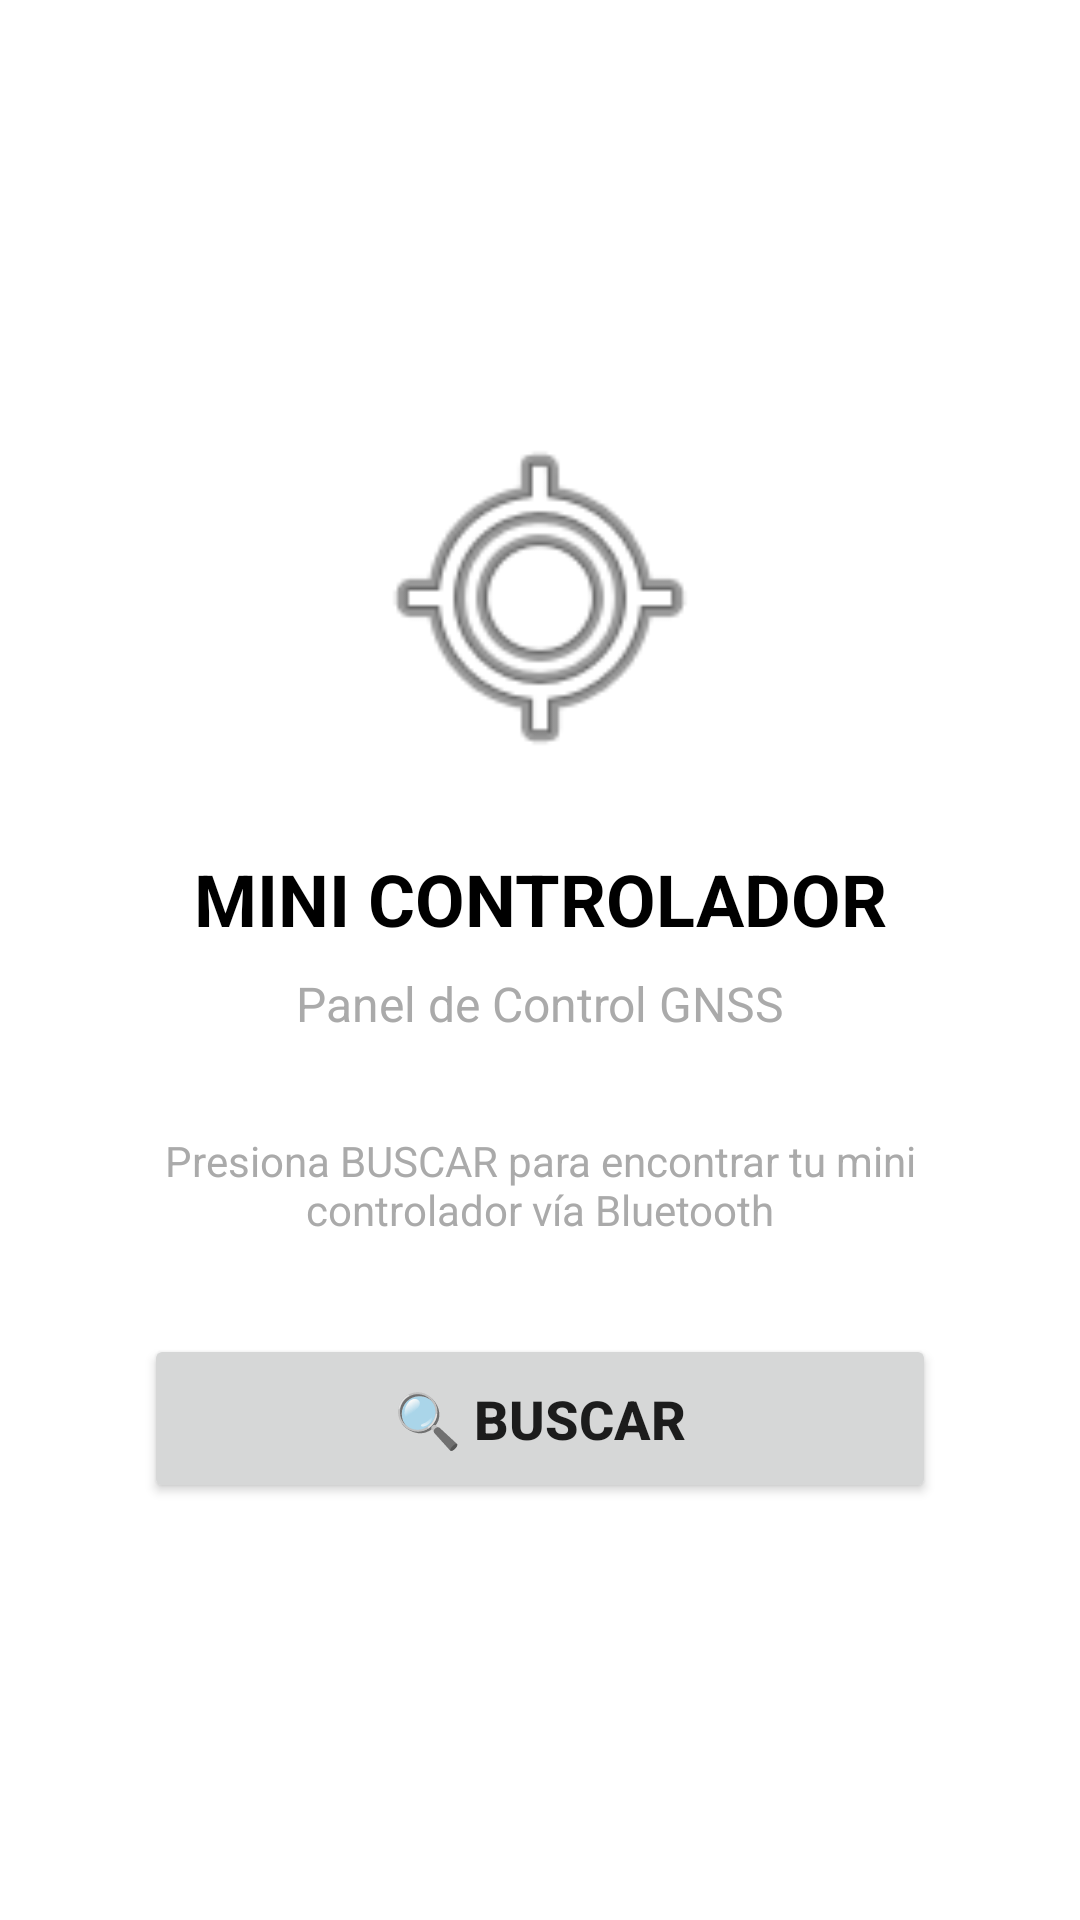

Named icons in this screenshot (1080×1920) and their centers, [x,y]:
mylocation: [540,598]
